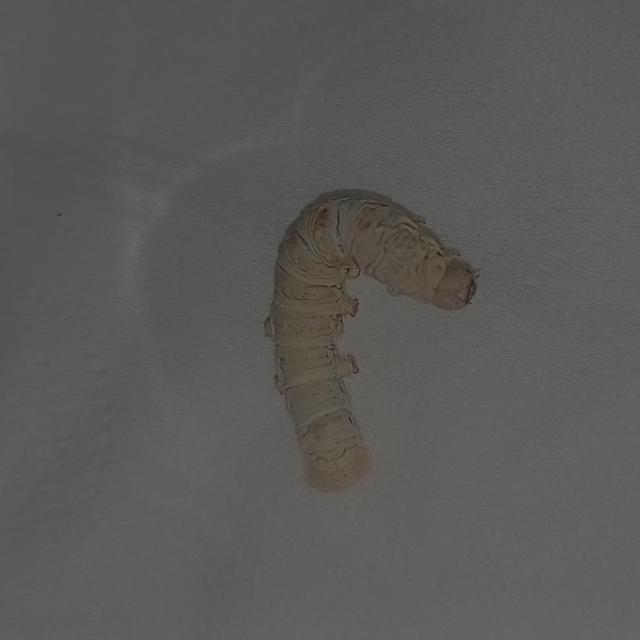Healthy: (224, 148, 518, 522)
